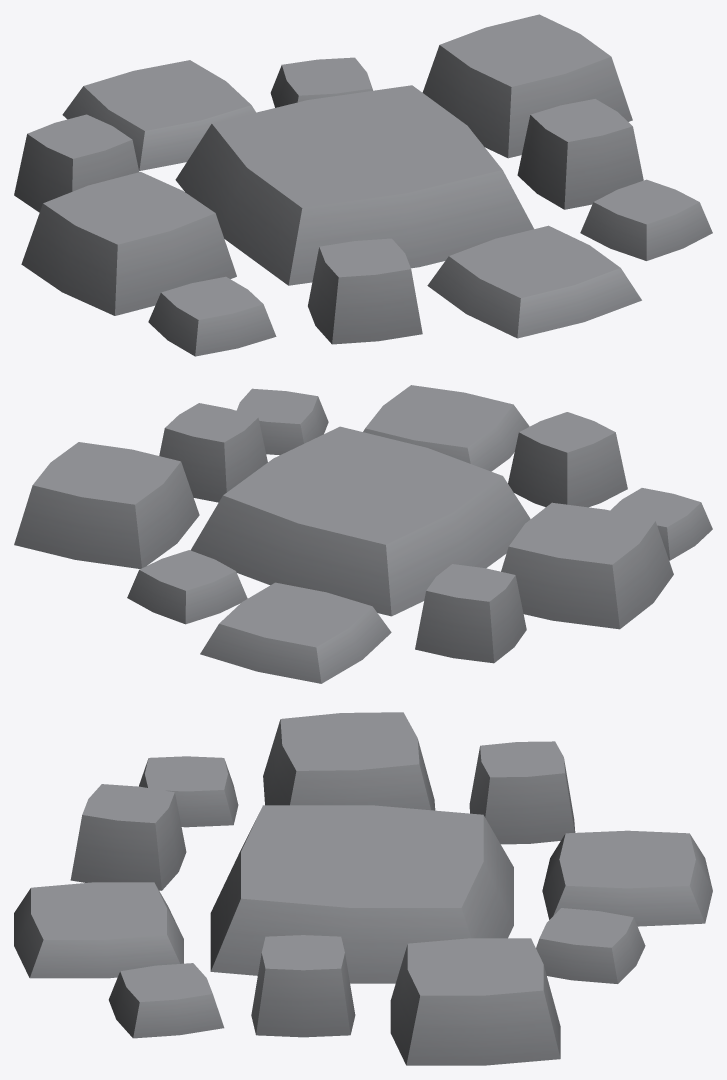
The model's file is road.glb.
3 views of the same model, one above another, from view 1: azimuth 30°, elevation 25°; view 2: azimuth 150°, elevation 25°; view 3: azimuth 270°, elevation 25° (orthographic). The views are drawn at different scales.
Visible parts, largest first — view 1: road; view 2: road; view 3: road.
Part boxes in pixels (<box>): road: <box>14,14,712,356</box>; road: <box>14,385,712,683</box>; road: <box>14,712,712,1065</box>.
Bounding box in the file's own units: 1.2 × 0.1174 × 1.18.
Materials: 1 (1 with a texture image).
